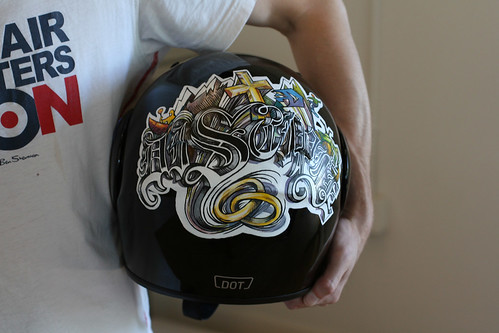helmet: (124, 59, 356, 301)
